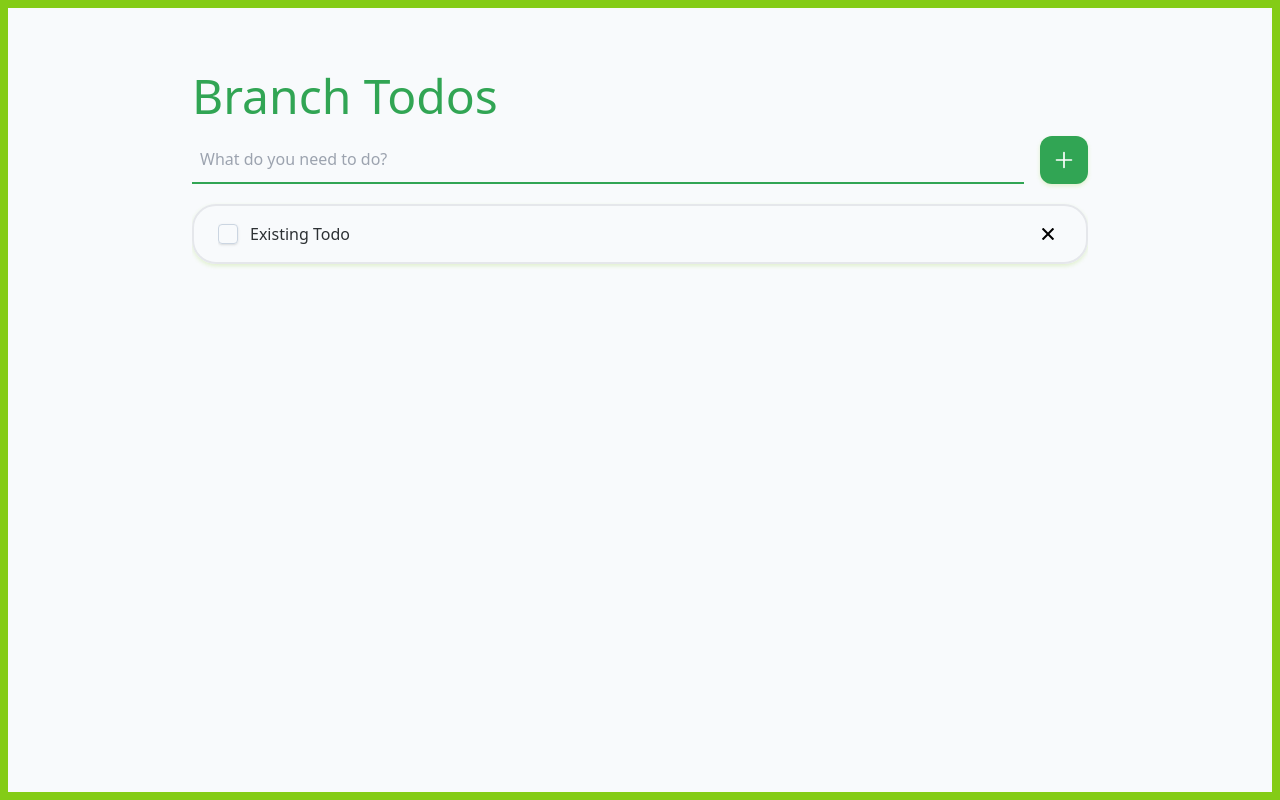
Test: App › Form Validation › shows error for duplicate todo
Submit duplicate
Type "Existing Todo" into the field with test id "todo-input" at point(608, 160), box [192, 136, 1024, 184]
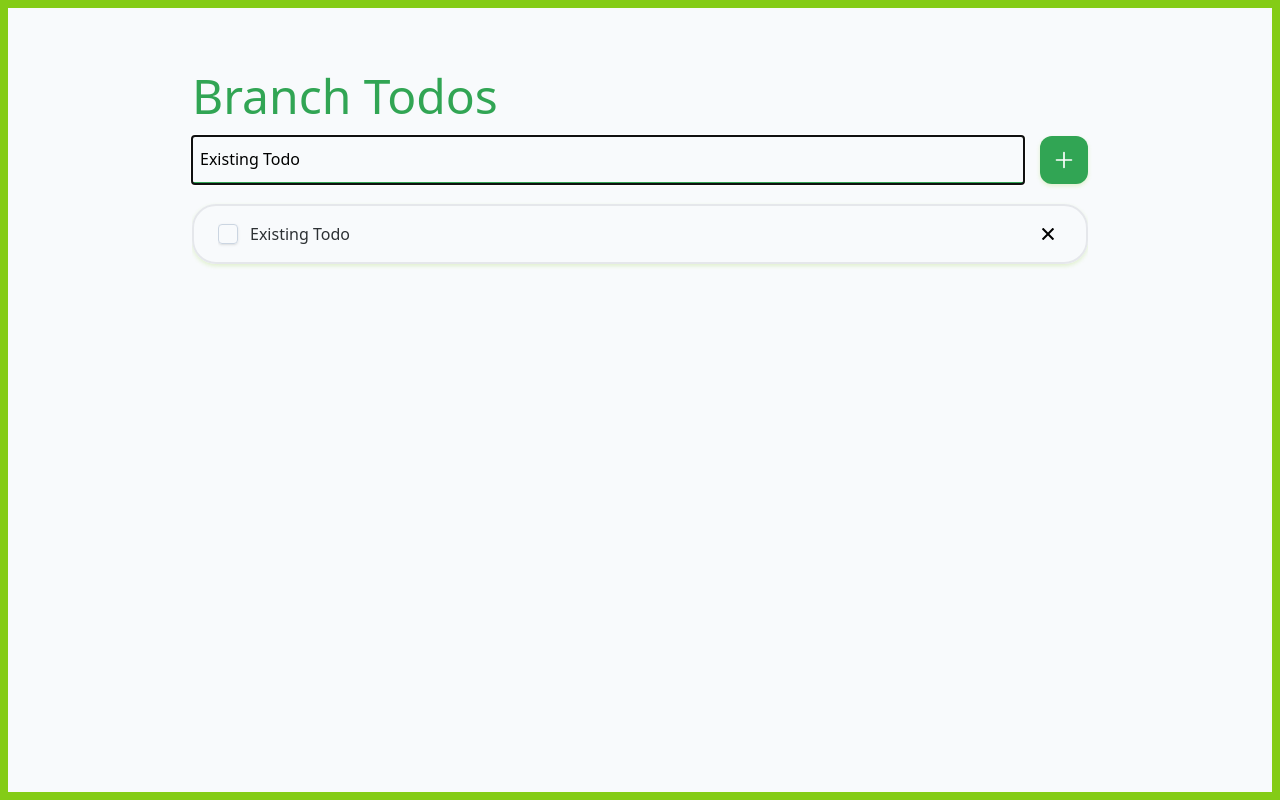
Press Enter
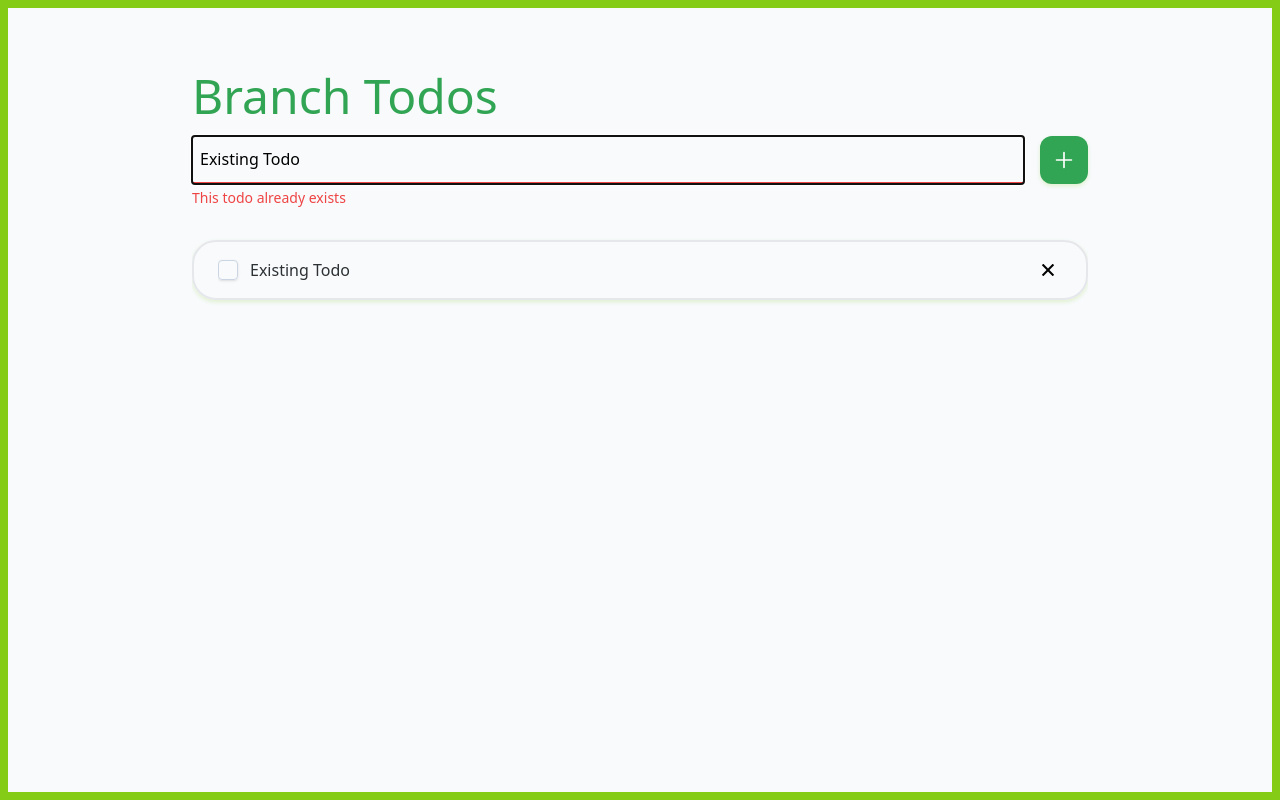
Expected: the text "This todo already exists" is shown, [192, 188, 346, 207]
